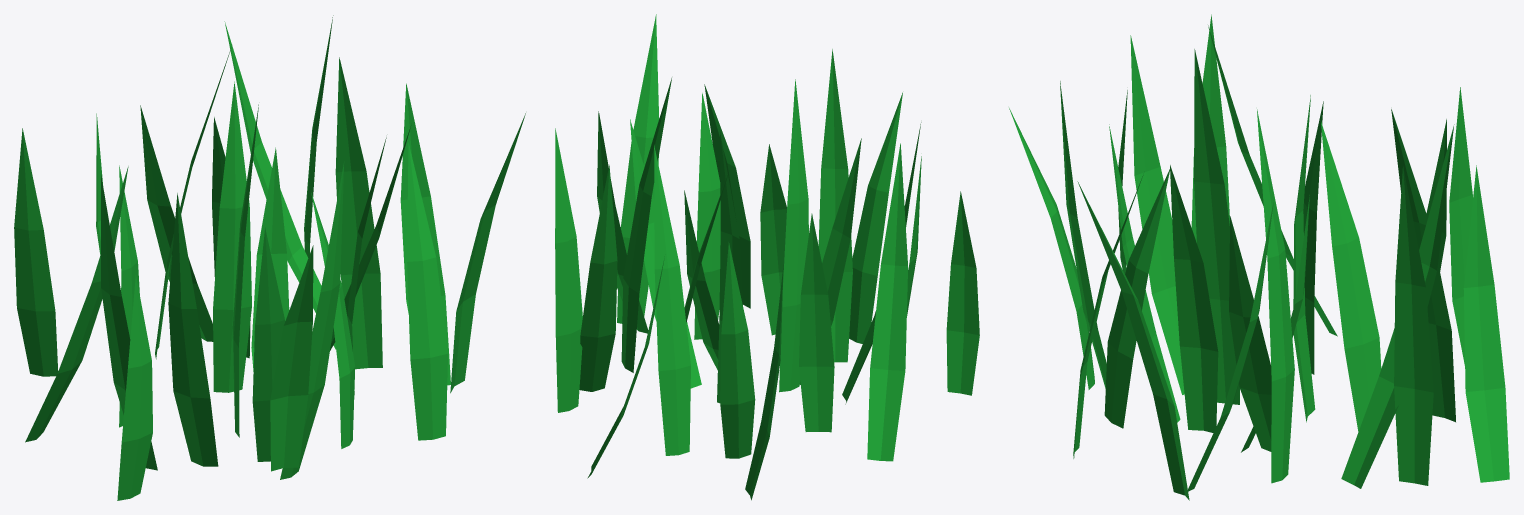
Rendered from Grass1.fbx.
3 renders of one model, left to right at view 1: azimuth 30°, elevation 25°; view 2: azimuth 150°, elevation 25°; view 3: azimuth 270°, elevation 25°, orthographic. The views are drawn at different scales.
Parts seen in each view (by area): view 1: Grass.Clump.001; view 2: Grass.Clump.001; view 3: Grass.Clump.001.
Boxes of the visible parts, left/top/right/bottom form: Grass.Clump.001: left=14, top=15, right=525, bottom=500; Grass.Clump.001: left=555, top=14, right=979, bottom=500; Grass.Clump.001: left=1009, top=14, right=1509, bottom=500.
Bounding box in the file's own units: 116 × 105 × 123.
